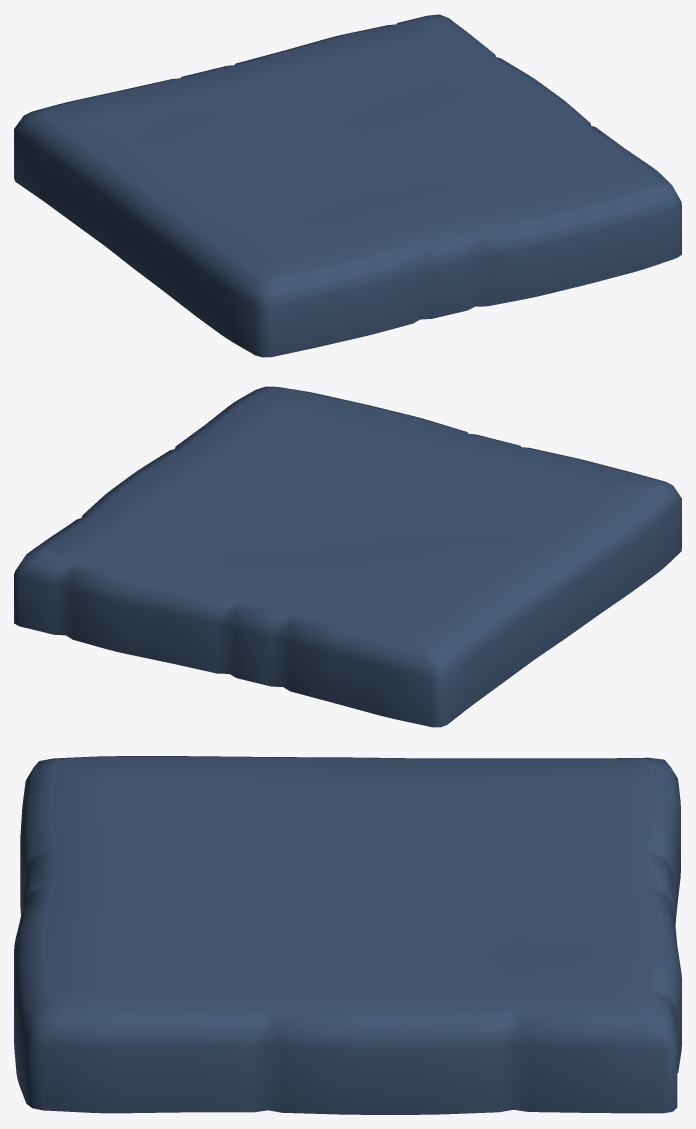
The model's file is floor-tile-1.obj.
3 renders of one model, top to bottom at view 1: azimuth 30°, elevation 25°; view 2: azimuth 150°, elevation 25°; view 3: azimuth 270°, elevation 25°, orthographic. The views are drawn at different scales.
Parts seen in each view (by area): view 1: Cube_Cube.040; view 2: Cube_Cube.040; view 3: Cube_Cube.040.
Boxes of the visible parts, left/top/right/bottom form: Cube_Cube.040: left=14, top=14, right=681, bottom=357; Cube_Cube.040: left=14, top=386, right=681, bottom=727; Cube_Cube.040: left=14, top=756, right=681, bottom=1114.
Bounding box in the file's own units: 0.9085 × 0.1413 × 0.9178.
